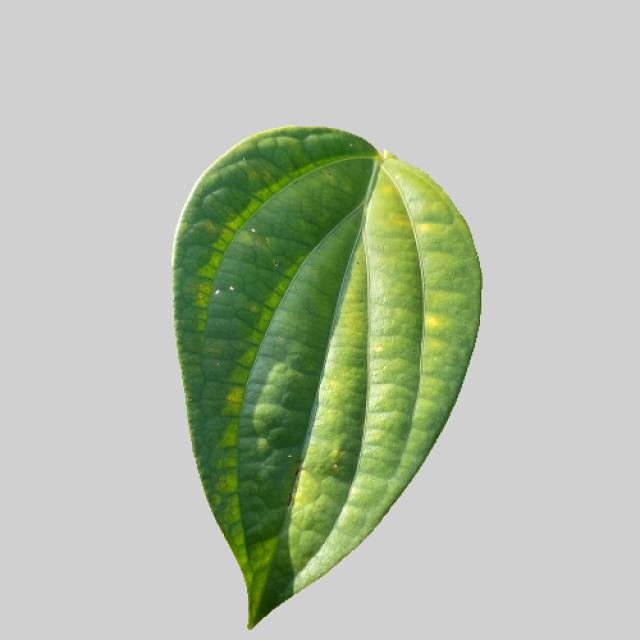healthy: (163, 124, 494, 629)
